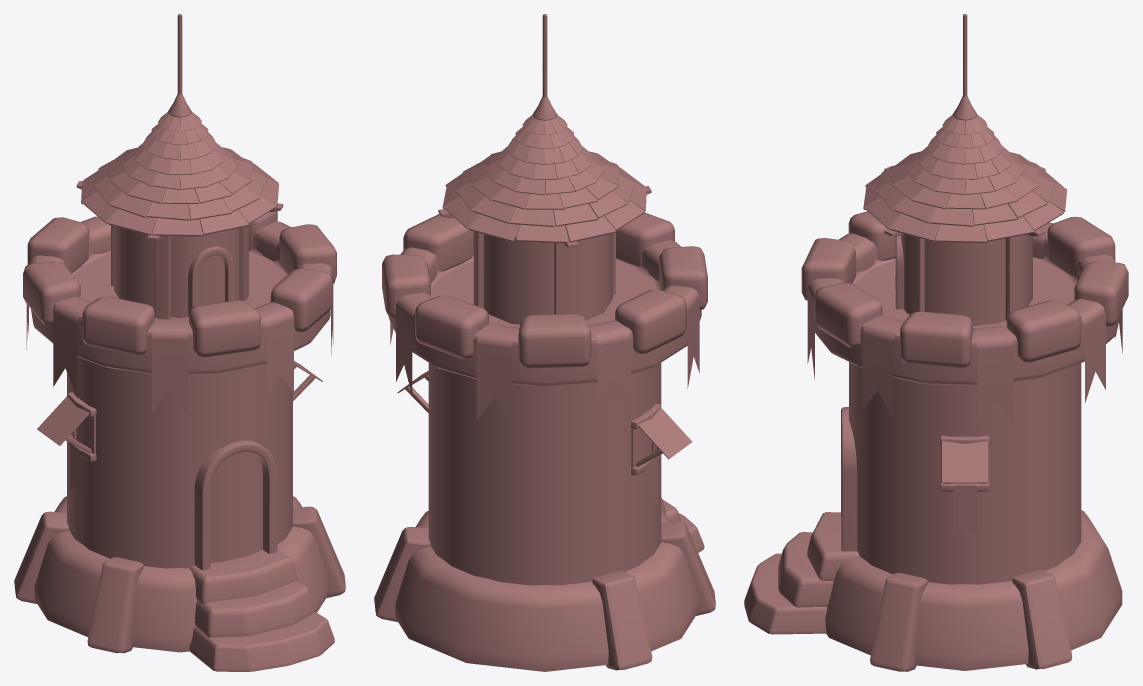
The model's file is TOWER-MODEL.fbx.
The picture shows the model from 3 angles, left to right: view 1: azimuth 30°, elevation 25°; view 2: azimuth 150°, elevation 25°; view 3: azimuth 270°, elevation 25°; orthographic projection. The views are drawn at different scales.
Parts seen in each view (by area): view 1: b2_low, b1_low, b3_low, l2_low, b4_low, b4_low3, b12_low1, b11_low, b10_low, b7_low, b9_low, b5_low7 (+23 smaller); view 2: b2_low, b1_low, l2_low, b3_low, b4_low2, b12_low1, b4_low3, b4_low1, b5_low4, b5_low5, b12_low, b4_low (+18 smaller); view 3: b2_low, b1_low, b3_low, b12_low, l2_low, b4_low1, b4_low, b4_low2, b11_low, b5_low2, b5_low1, b10_low (+18 smaller).
Part boxes in pixels (box(x1,y1,x2,y2)): b2_low: box(67, 357, 292, 568); b1_low: box(34, 496, 328, 652); b3_low: box(31, 229, 330, 374); l2_low: box(114, 226, 239, 318); b4_low: box(189, 268, 332, 357); b4_low3: box(23, 261, 154, 355); b12_low1: box(14, 511, 143, 653); b11_low: box(189, 612, 334, 671); b10_low: box(194, 581, 314, 637); b7_low: box(194, 440, 277, 570); b9_low: box(189, 550, 297, 603); b5_low7: box(152, 319, 187, 414); b2_low: box(428, 363, 661, 585); b1_low: box(395, 511, 698, 671); l2_low: box(483, 233, 612, 324); b3_low: box(388, 246, 701, 386); b4_low2: box(415, 295, 591, 368); b12_low1: box(592, 521, 715, 670); b4_low3: box(615, 246, 707, 353); b4_low1: box(382, 214, 473, 318); b5_low4: box(476, 324, 519, 425); b5_low5: box(588, 320, 631, 422); b12_low: box(374, 526, 430, 621); b4_low: box(616, 212, 674, 266); b2_low: box(849, 362, 1081, 584); b1_low: box(825, 510, 1122, 670); b3_low: box(815, 236, 1118, 385); b12_low: box(870, 570, 1072, 671); l2_low: box(900, 234, 1032, 325); b4_low1: box(900, 300, 1081, 368); b4_low: box(801, 238, 882, 347); b4_low2: box(1047, 216, 1128, 326); b11_low: box(744, 553, 827, 634); b5_low2: box(973, 326, 1013, 426); b5_low1: box(862, 315, 903, 418); b10_low: box(778, 532, 833, 607).
Size of the model in its own units: 5.29 by 10.62 by 6.21.
